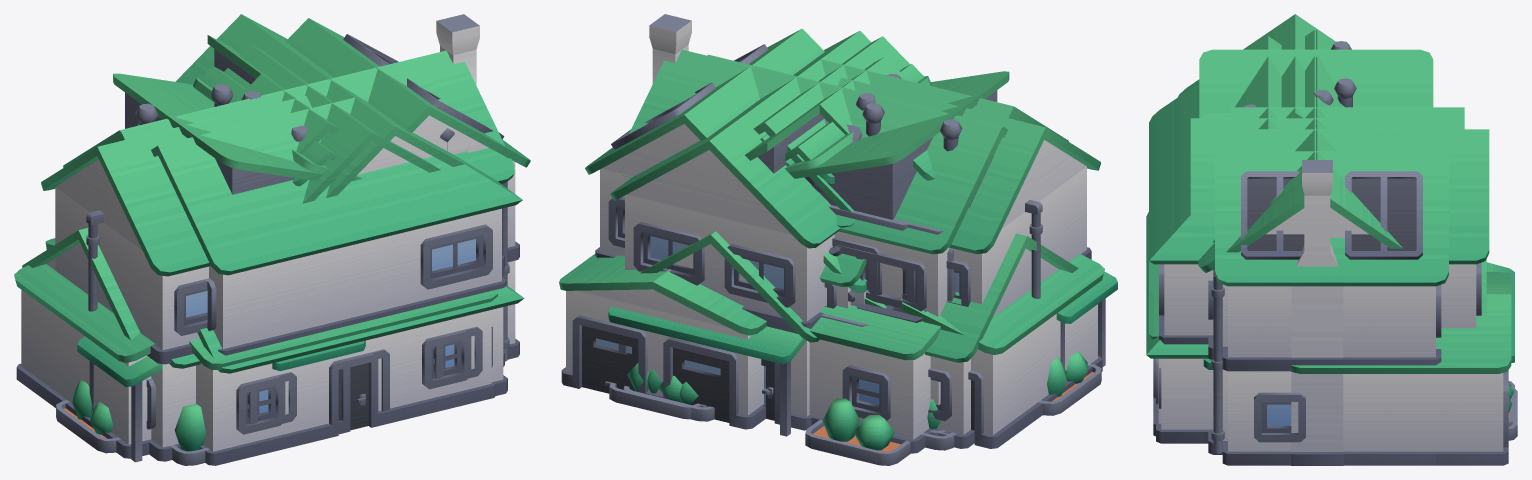
File: suburban.glb
3 views of the same model, side by side, from view 1: azimuth 30°, elevation 25°; view 2: azimuth 150°, elevation 25°; view 3: azimuth 270°, elevation 25° (orthographic). The views are drawn at different scales.
Parts seen in each view (by area): view 1: building-type-f, building-type-t, building-type-n, building-type-d, building-type-b, building-type-m, building-type-k, building-type-u, building-type-s, building-type-r, building-type-e, building-type-l; view 2: building-type-n, building-type-f, building-type-d, building-type-t, building-type-b, building-type-e, building-type-k, building-type-m, building-type-r, building-type-s, building-type-u, building-type-o (+4 smaller); view 3: building-type-b, building-type-f, building-type-d, building-type-n, building-type-k, building-type-u, building-type-m, building-type-r, building-type-t, building-type-s, building-type-o, building-type-e.
Boxes of the visible parts, left/top/right/bottom form: building-type-f: left=137, top=14, right=522, bottom=465; building-type-t: left=45, top=57, right=498, bottom=465; building-type-n: left=41, top=96, right=365, bottom=462; building-type-d: left=14, top=14, right=514, bottom=458; building-type-b: left=22, top=18, right=530, bottom=453; building-type-m: left=197, top=285, right=524, bottom=434; building-type-k: left=113, top=73, right=357, bottom=194; building-type-u: left=263, top=38, right=495, bottom=197; building-type-s: left=224, top=44, right=440, bottom=203; building-type-r: left=207, top=35, right=339, bottom=153; building-type-e: left=63, top=56, right=421, bottom=167; building-type-l: left=193, top=78, right=362, bottom=179; building-type-n: left=559, top=77, right=1117, bottom=446; building-type-f: left=608, top=59, right=1068, bottom=436; building-type-d: left=621, top=14, right=1104, bottom=448; building-type-t: left=623, top=54, right=1007, bottom=465; building-type-b: left=585, top=28, right=1101, bottom=448; building-type-e: left=785, top=110, right=1007, bottom=316; building-type-k: left=788, top=71, right=1009, bottom=290; building-type-m: left=609, top=231, right=819, bottom=419; building-type-r: left=745, top=56, right=908, bottom=326; building-type-s: left=753, top=36, right=909, bottom=211; building-type-u: left=720, top=31, right=956, bottom=450; building-type-o: left=690, top=56, right=914, bottom=220; building-type-b: left=1211, top=151, right=1448, bottom=465; building-type-f: left=1149, top=36, right=1514, bottom=443; building-type-d: left=1198, top=47, right=1402, bottom=465; building-type-n: left=1178, top=14, right=1511, bottom=465; building-type-k: left=1199, top=49, right=1433, bottom=118; building-type-u: left=1190, top=129, right=1424, bottom=443; building-type-m: left=1146, top=212, right=1517, bottom=443; building-type-r: left=1230, top=90, right=1464, bottom=129; building-type-t: left=1149, top=30, right=1514, bottom=436; building-type-s: left=1190, top=104, right=1424, bottom=369; building-type-o: left=1317, top=72, right=1357, bottom=198; building-type-e: left=1316, top=30, right=1335, bottom=159.
Bounding box in the file's own units: 1.83 × 1.24 × 1.43.
1 material, 1 textured.
